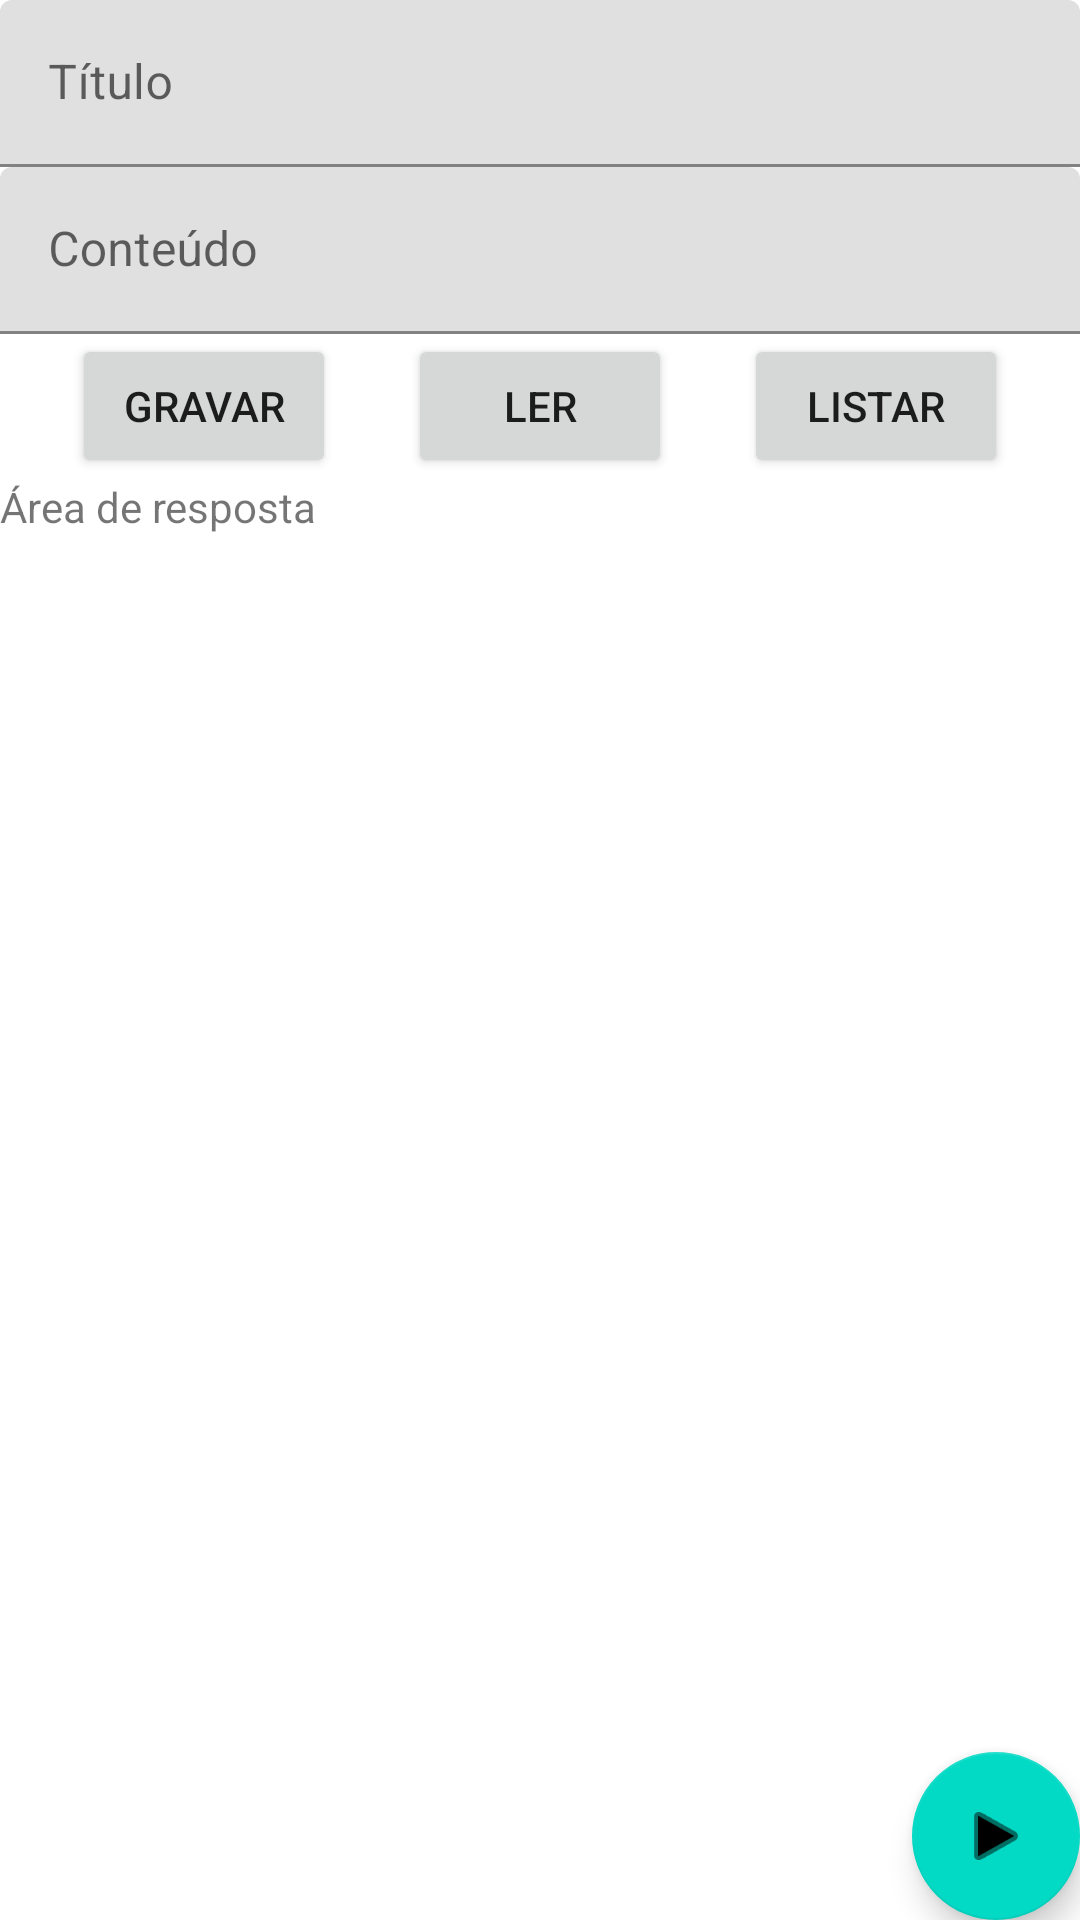

Named icons in this screenshot (1080w x 1920h) and their centers, (x,y):
play: (996,1836)
